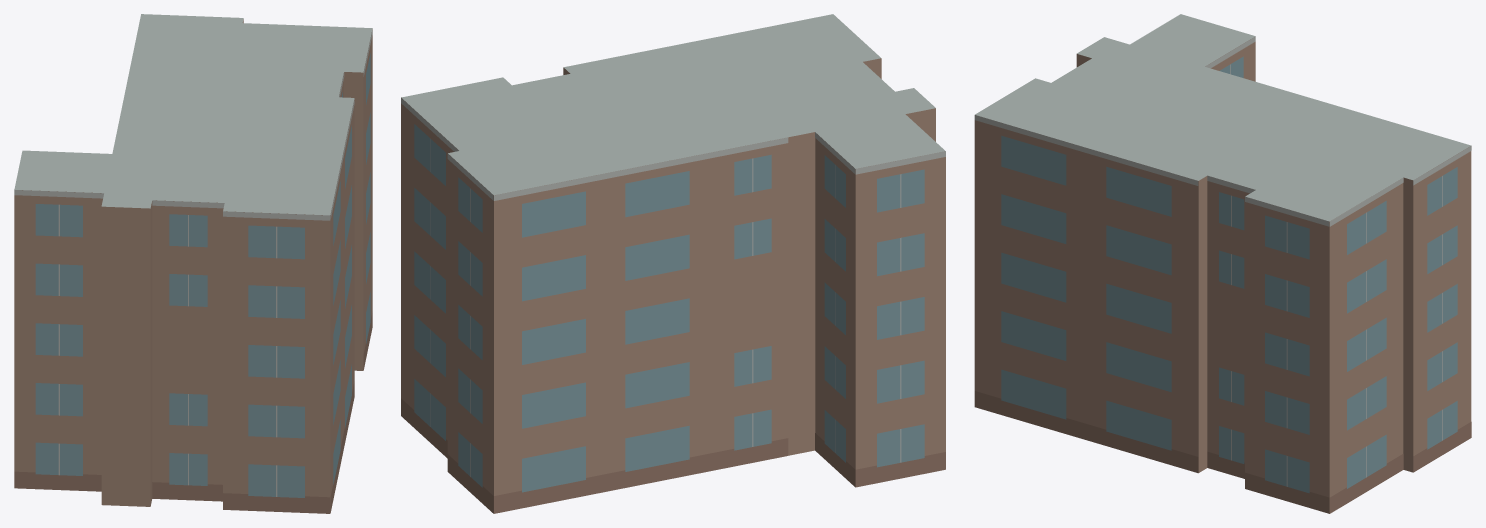
File: survey-upis-32622821.glb
3 views of the same model, side by side, from view 1: azimuth 30°, elevation 25°; view 2: azimuth 150°, elevation 25°; view 3: azimuth 270°, elevation 25° (orthographic). The views are drawn at different scales.
Parts seen in each view (by area): view 1: survey-upis-32622821.tmp; view 2: survey-upis-32622821.tmp; view 3: survey-upis-32622821.tmp.
Part boxes in pixels (left/top/right/bottom): survey-upis-32622821.tmp: left=14, top=14, right=372, bottom=513; survey-upis-32622821.tmp: left=401, top=14, right=945, bottom=513; survey-upis-32622821.tmp: left=974, top=14, right=1471, bottom=513.
Bounding box in the file's own units: 20.57 × 13.5 × 20.8.
